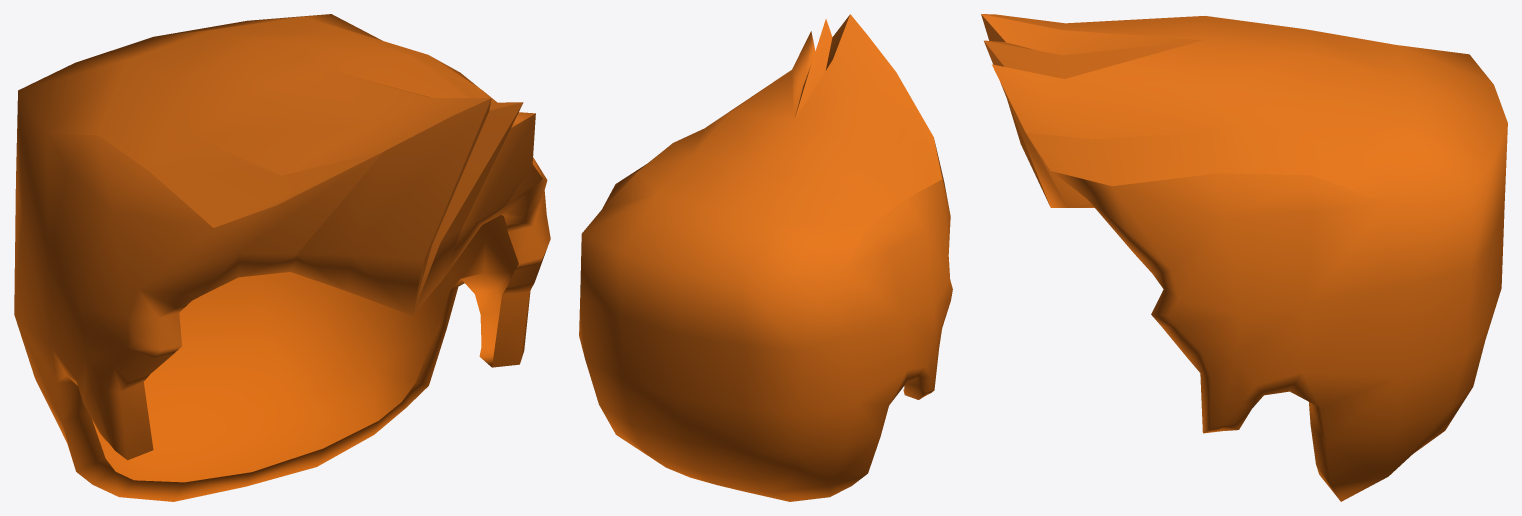
The model's file is Hair_Orange_3.fbx.
The picture shows the model from 3 angles, left to right: view 1: azimuth 30°, elevation 25°; view 2: azimuth 150°, elevation 25°; view 3: azimuth 270°, elevation 25°; orthographic projection. The views are drawn at different scales.
Parts seen in each view (by area): view 1: Hair_Orange_3; view 2: Hair_Orange_3; view 3: Hair_Orange_3.
Boxes of the visible parts, left/top/right/bottom form: Hair_Orange_3: left=14, top=14, right=550, bottom=501; Hair_Orange_3: left=579, top=14, right=952, bottom=501; Hair_Orange_3: left=981, top=14, right=1507, bottom=501.
Size of the model in its own units: 53.25 by 60.55 by 61.45.
